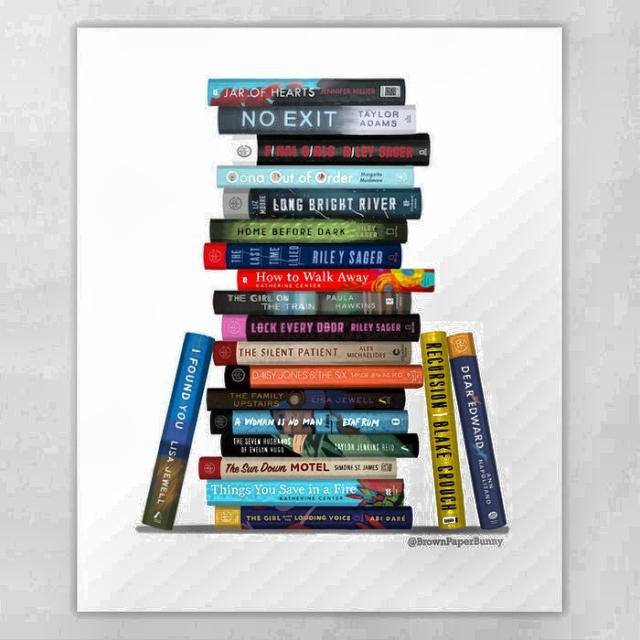Books: (143, 332, 212, 530), (449, 336, 506, 529), (421, 331, 465, 529), (230, 134, 430, 166), (224, 188, 421, 220), (219, 105, 416, 135), (208, 79, 405, 106), (205, 242, 401, 269), (208, 479, 404, 506), (222, 315, 420, 341), (214, 290, 411, 315), (225, 365, 424, 389), (210, 410, 408, 434), (222, 434, 419, 458), (215, 506, 412, 530), (215, 341, 411, 365), (218, 166, 414, 189), (212, 219, 408, 242), (238, 269, 435, 291), (208, 389, 405, 410), (201, 458, 398, 479)
